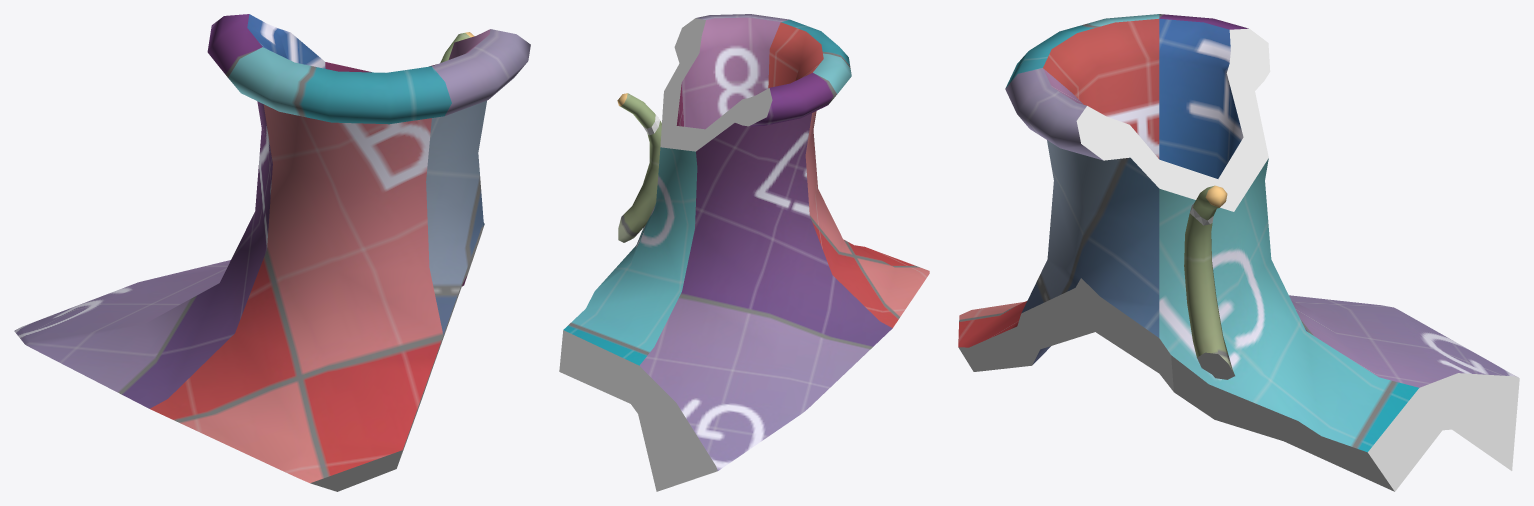
Rendered from MediumVase_SHAT_cell_015.fbx.
3 renders of one model, left to right at view 1: azimuth 30°, elevation 25°; view 2: azimuth 150°, elevation 25°; view 3: azimuth 270°, elevation 25°, orthographic. The views are drawn at different scales.
Visible parts, largest first — view 1: MediumVase_SHAT_cell_015; view 2: MediumVase_SHAT_cell_015; view 3: MediumVase_SHAT_cell_015.
Boxes of the visible parts, box(x1,y1,x2,y2) form: MediumVase_SHAT_cell_015: box(14, 14, 530, 491); MediumVase_SHAT_cell_015: box(559, 14, 929, 491); MediumVase_SHAT_cell_015: box(958, 14, 1519, 491).
Bounding box in the file's own units: 0.4545 × 0.5644 × 0.657.
Materials: 2 (1 with a texture image).
